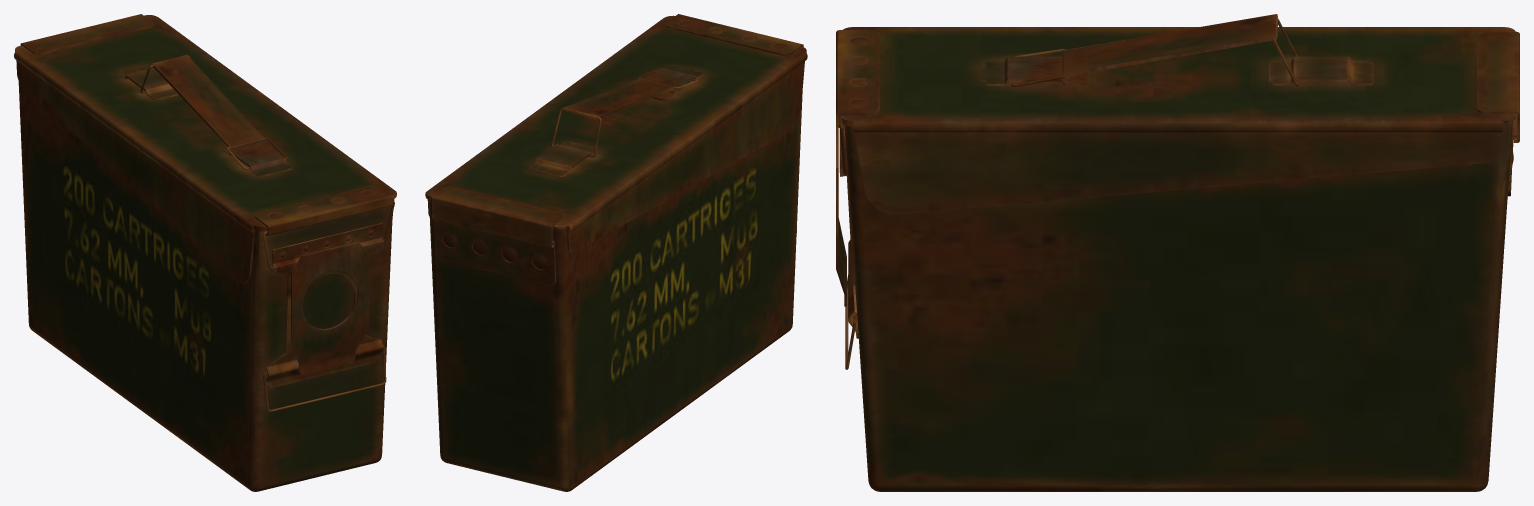
The model's file is ammo_box.glb.
3 views of the same model, side by side, from view 1: azimuth 30°, elevation 25°; view 2: azimuth 150°, elevation 25°; view 3: azimuth 270°, elevation 25° (orthographic). The views are drawn at different scales.
Visible parts, largest first — view 1: ammo_box, ammo_box_handle, ammo_box_latch; view 2: ammo_box, ammo_box_handle; view 3: ammo_box, ammo_box_handle.
Boxes of the visible parts, bbox=[...] form: ammo_box: bbox=[14, 14, 396, 491]; ammo_box_handle: bbox=[152, 54, 265, 149]; ammo_box_latch: bbox=[263, 345, 386, 411]; ammo_box: bbox=[425, 14, 807, 491]; ammo_box_handle: bbox=[563, 78, 675, 119]; ammo_box: bbox=[836, 27, 1519, 491]; ammo_box_handle: bbox=[1062, 14, 1277, 76].
Size of the model in its own units: 0.0866 by 0.1775 by 0.2579.
1 material, 1 textured.
